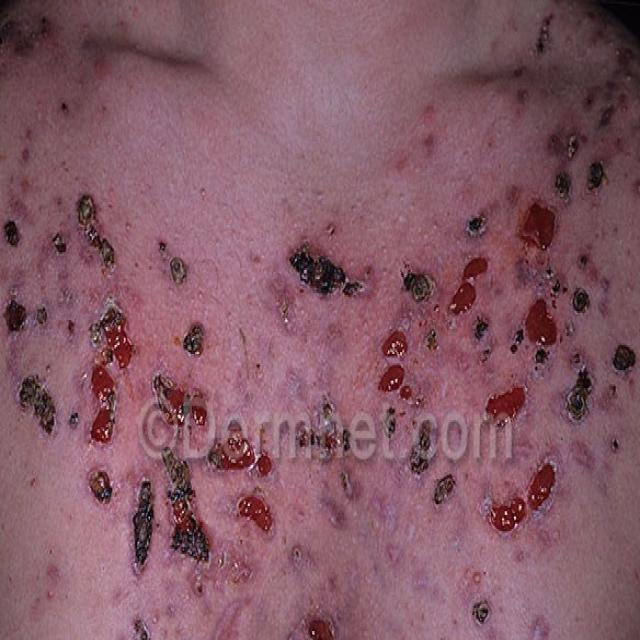Acne: (0, 173, 275, 640), (285, 229, 640, 545), (532, 101, 640, 216)
